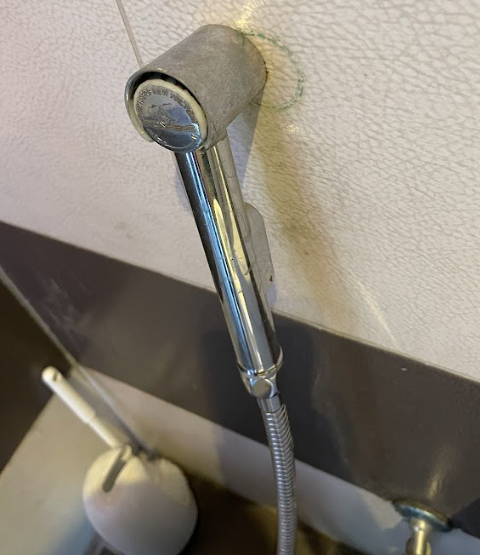Toilet: (94, 19, 340, 553)
